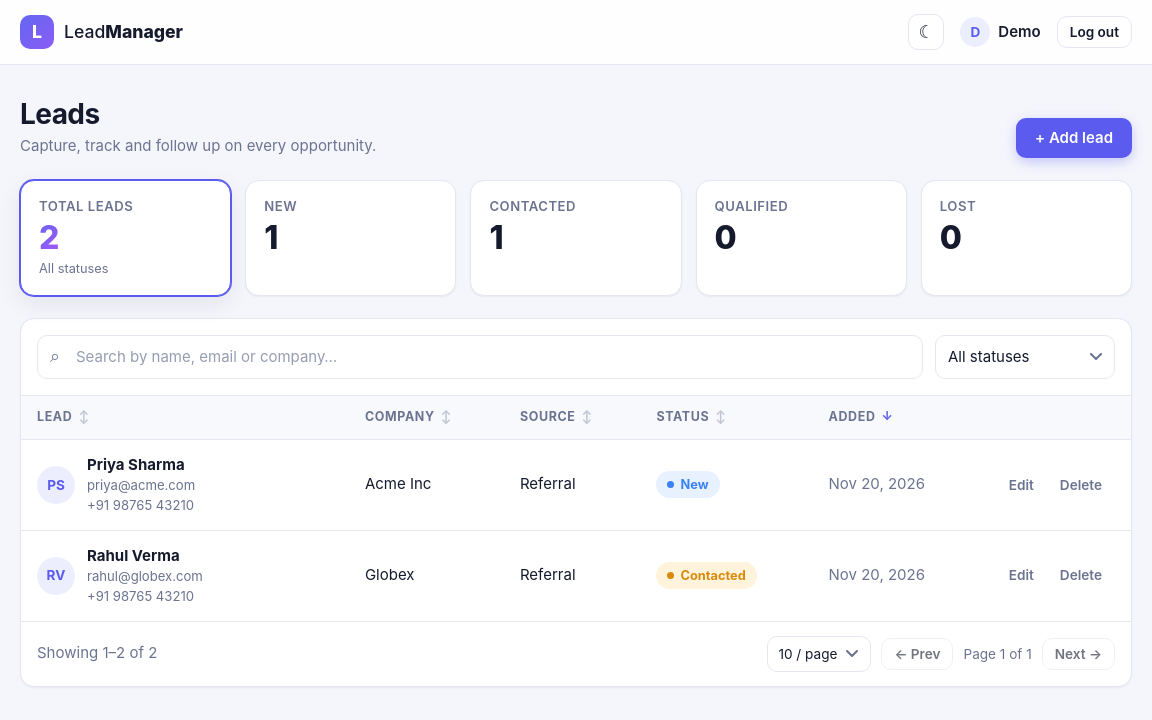
Test case: LeadsPage › deletes after the user confirms
expect the text "Priya Sharma" is shown: met, box top-left (87, 454), bottom-right (195, 476)
Click the button with aria-label "Delete Priya Sharma": (1081, 485) top-left (1047, 469), bottom-right (1115, 501)
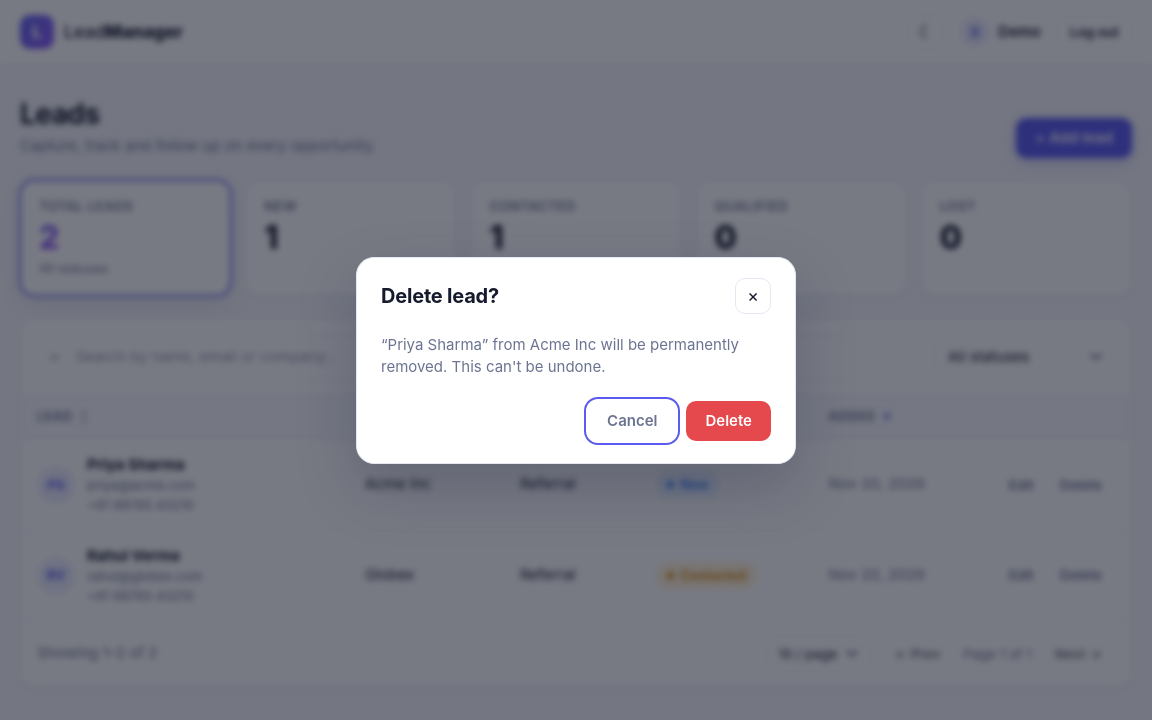
Click the button "Delete": (729, 420) top-left (686, 400), bottom-right (771, 440)
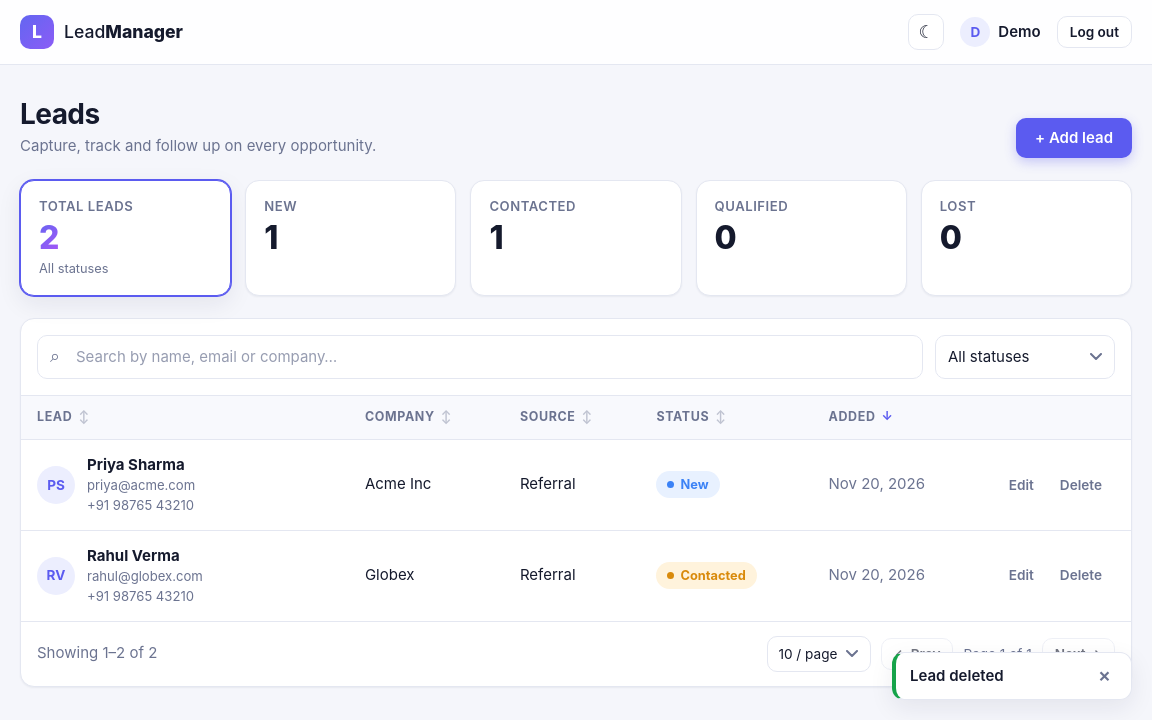
expect the text "Lead deleted" is shown: met, box top-left (910, 666), bottom-right (1004, 684)
